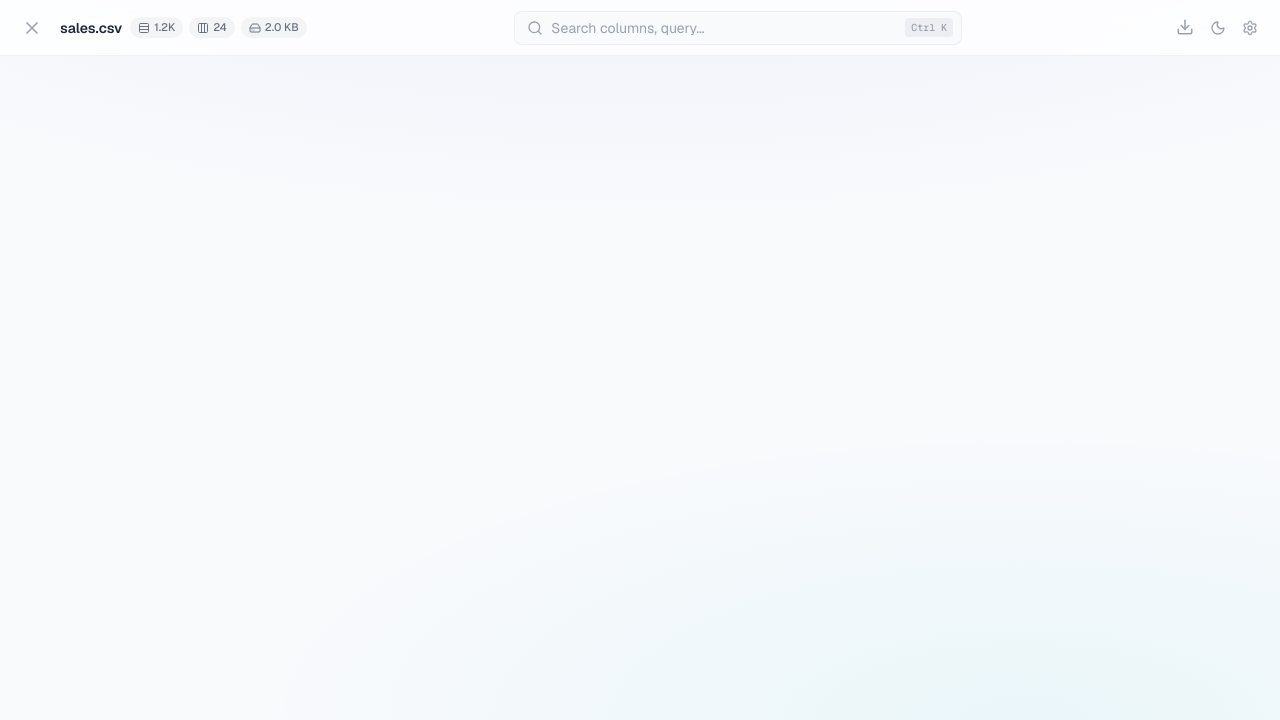
Test case: Header › focuses the search input from Ctrl+K and clears the query
This screenshot has width=1280, height=720.
Press k
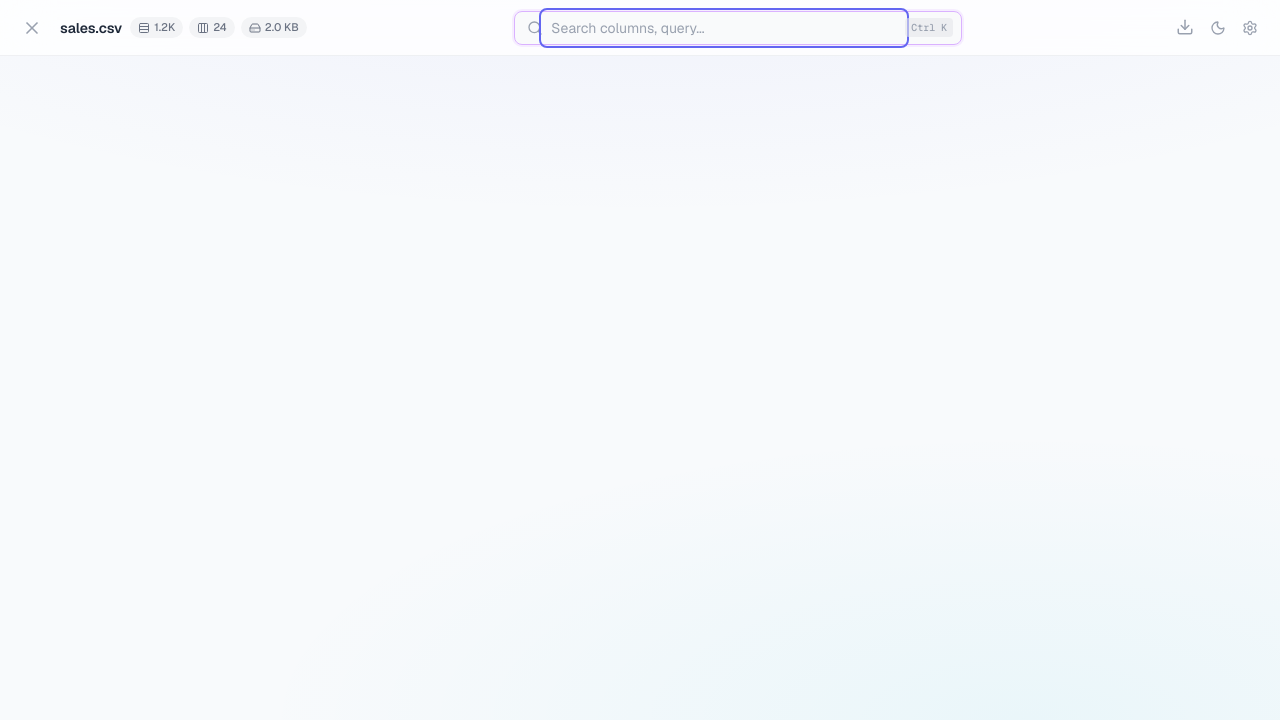
Type "region" into the field with placeholder "Search columns, query..." at {"x": 724, "y": 28}, box top-left (543, 12), bottom-right (905, 44)
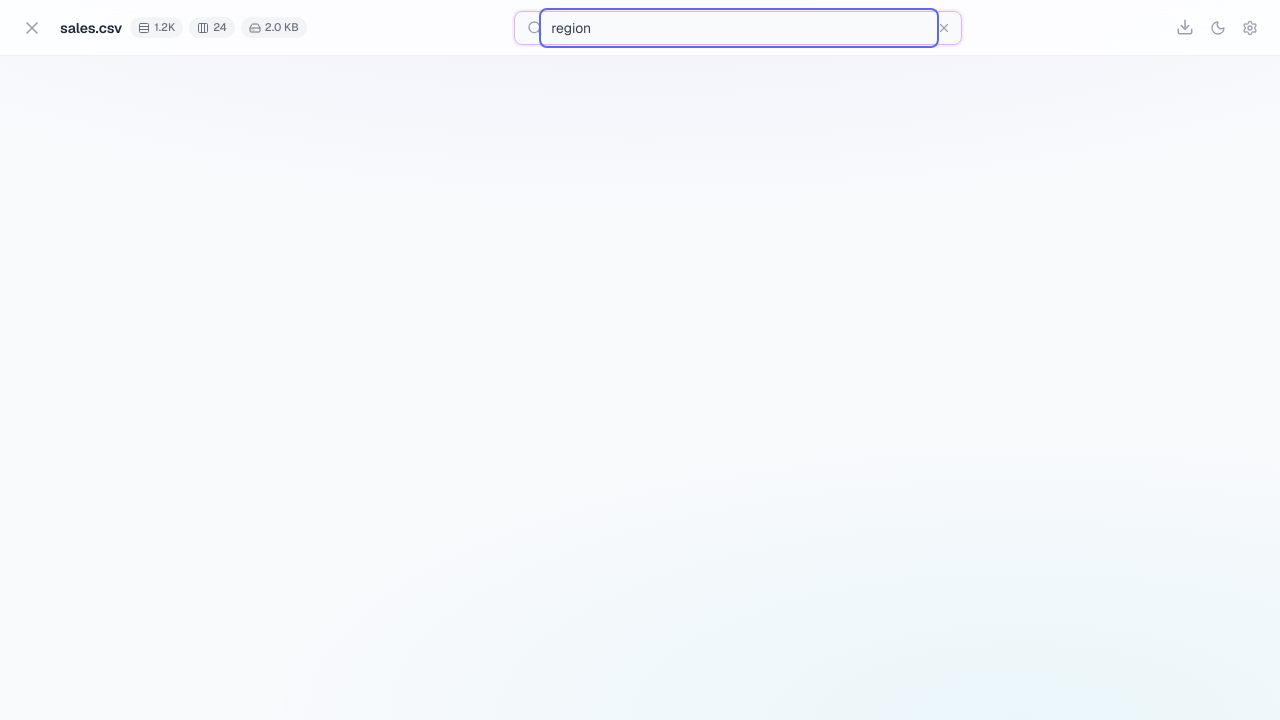
Check: the button named "Clear search" is shown
Click the button named "Clear search" at {"x": 944, "y": 28}, box top-left (935, 18), bottom-right (953, 36)
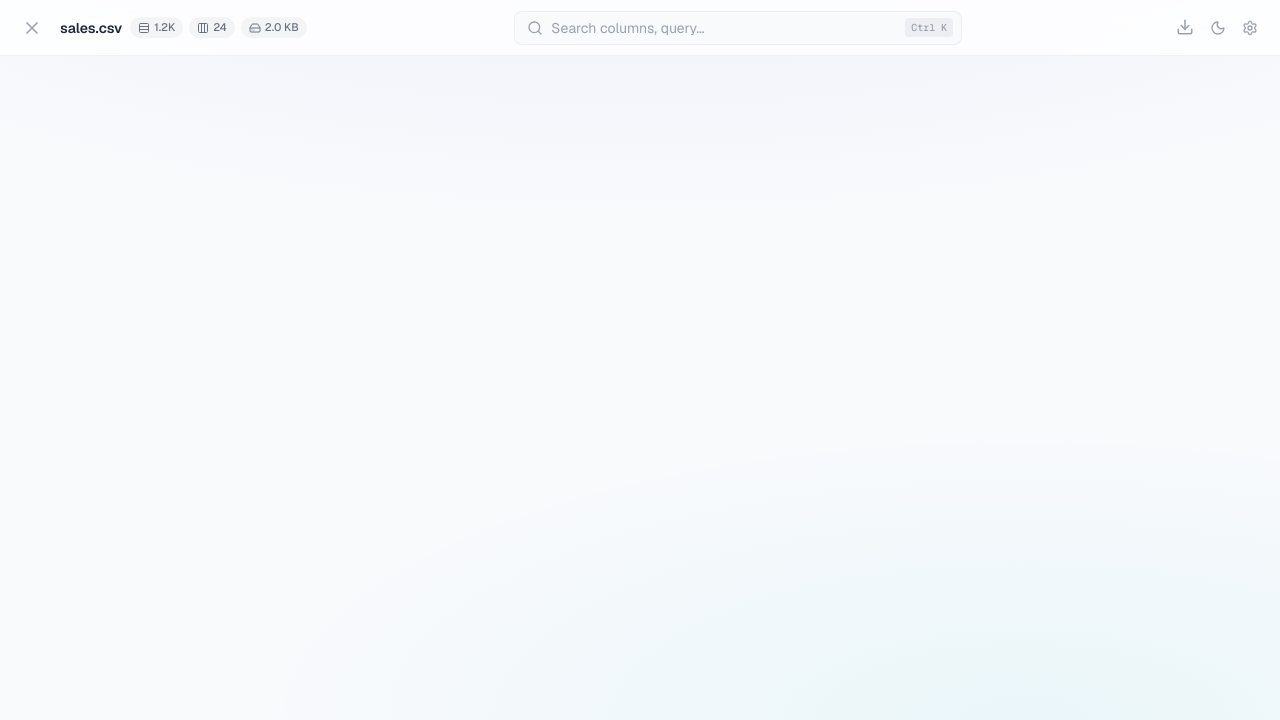
Check: the field with placeholder "Search columns, query..." is empty, box top-left (543, 12), bottom-right (905, 44)
